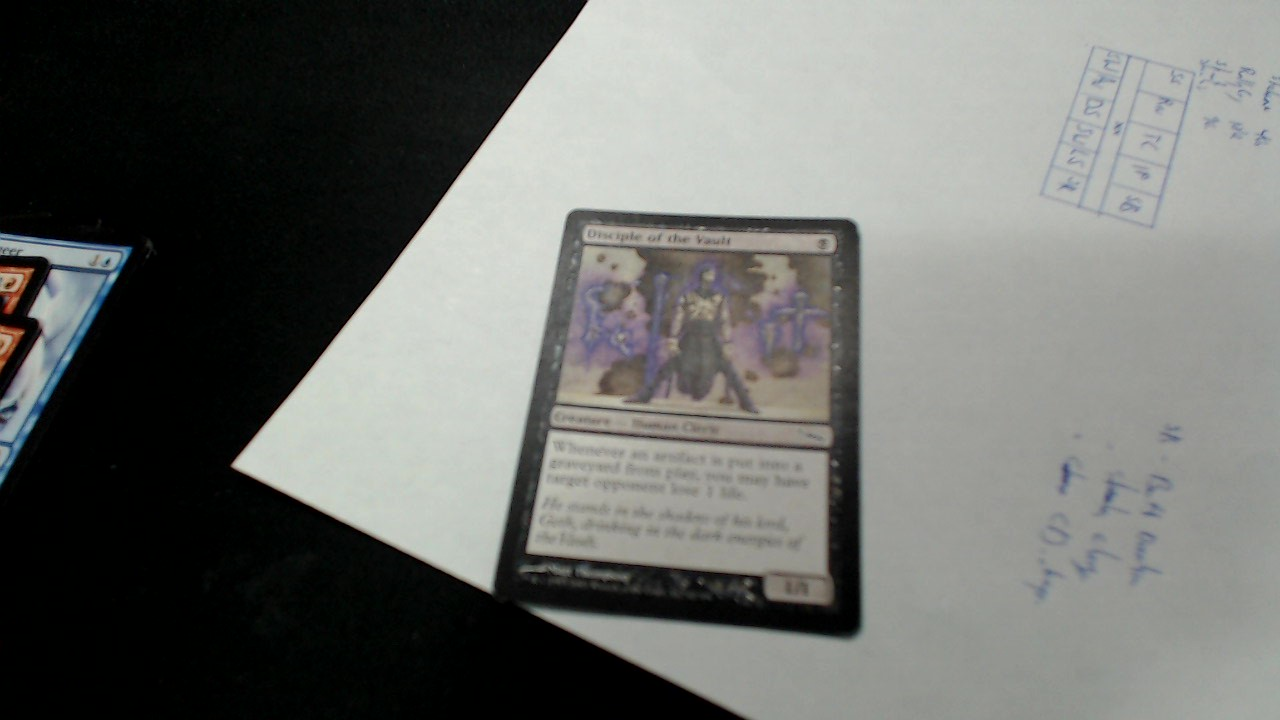MTG Card: (490, 206, 901, 645)
